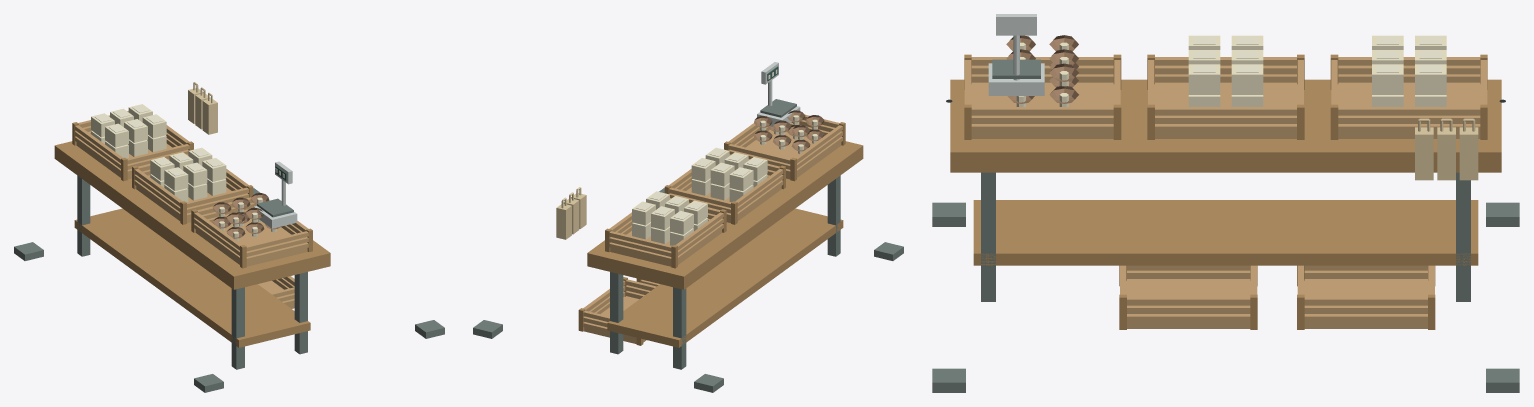
The model's file is market-tofu-table.glb.
3 views of the same model, side by side, from view 1: azimuth 30°, elevation 25°; view 2: azimuth 150°, elevation 25°; view 3: azimuth 270°, elevation 25° (orthographic). The views are drawn at different scales.
Parts seen in each view (by area): view 1: tofu market stall; view 2: tofu market stall; view 3: tofu market stall.
Boxes of the visible parts, bbox=[...] form: tofu market stall: bbox=[14, 82, 444, 392]; tofu market stall: bbox=[473, 62, 903, 392]; tofu market stall: bbox=[932, 14, 1519, 392].
Bounding box in the file's own units: 2.28 × 1.69 × 3.14.
